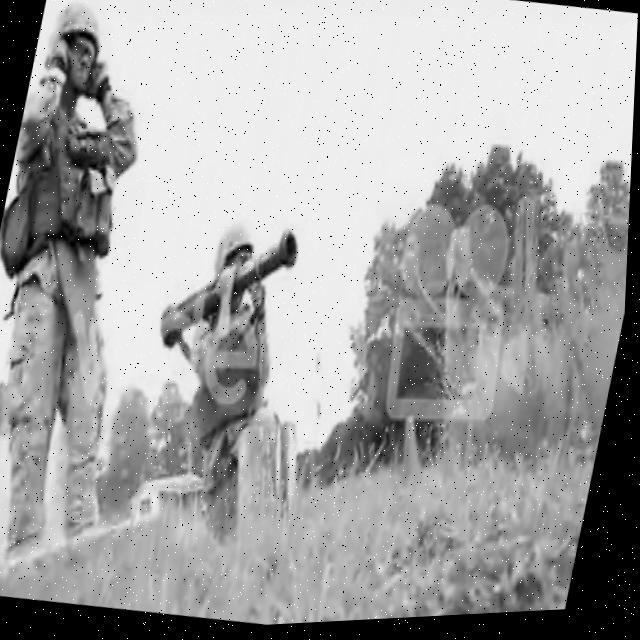rocket: (146, 213, 311, 377)
